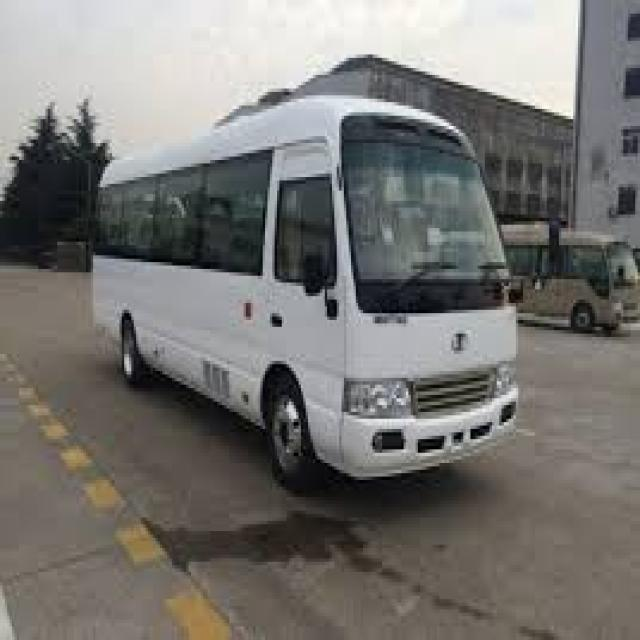bus: (52, 59, 602, 564)
